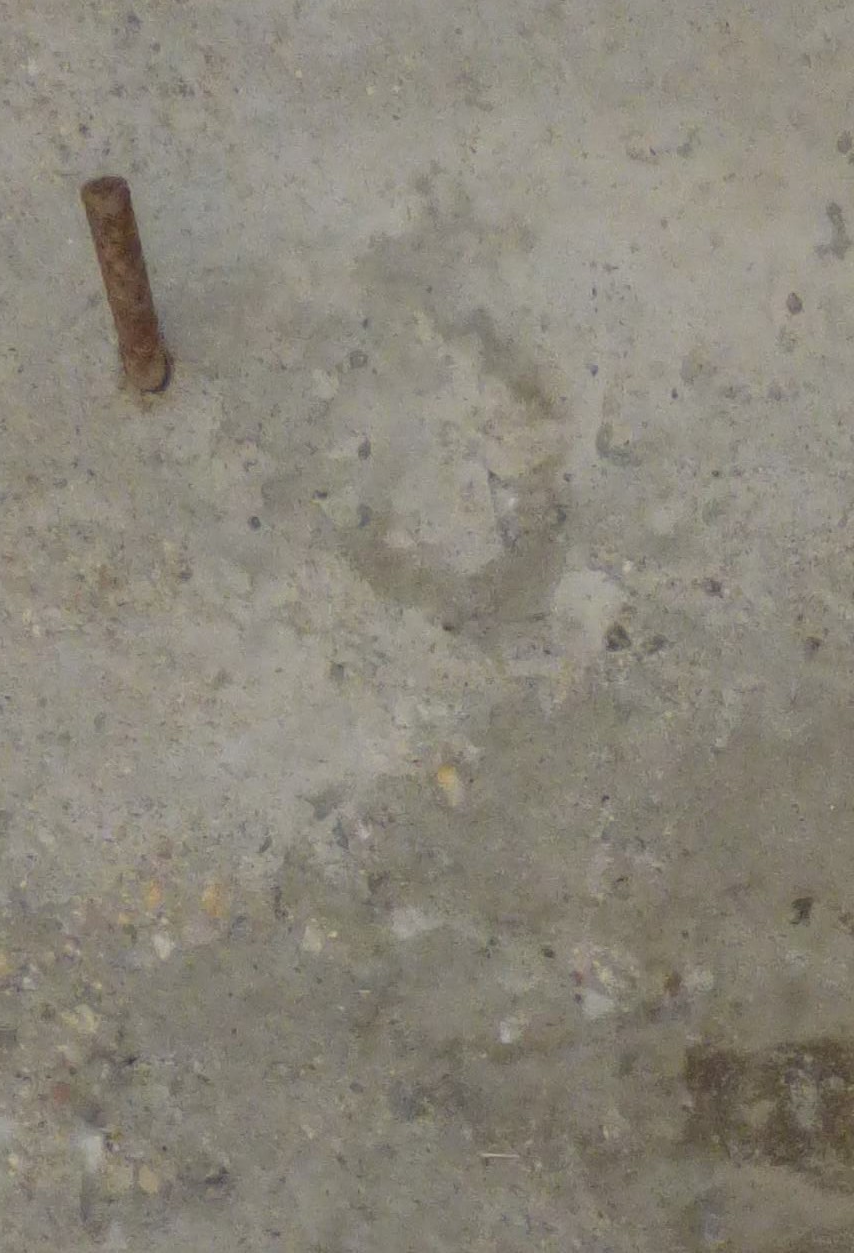Exposed reinforcement: (80, 175, 166, 392)
